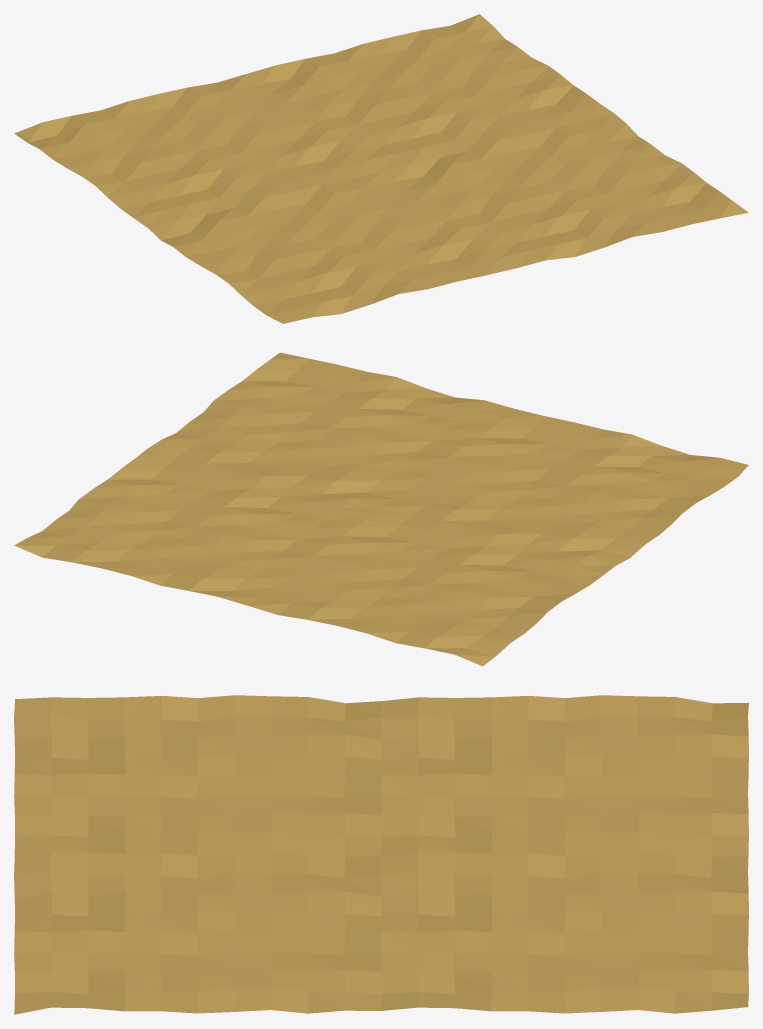
Rendered from sand_2.FBX.
The picture shows the model from 3 angles, top to bottom: view 1: azimuth 30°, elevation 25°; view 2: azimuth 150°, elevation 25°; view 3: azimuth 270°, elevation 25°; orthographic projection. The views are drawn at different scales.
Visible parts, largest first — view 1: sand_2; view 2: sand_2; view 3: sand_2.
Boxes of the visible parts, x1,y1,x2,y2 form: sand_2: (14, 14, 748, 323); sand_2: (14, 352, 748, 666); sand_2: (14, 695, 748, 1014).
Size of the model in its own units: 10337 by 132 by 10173.
